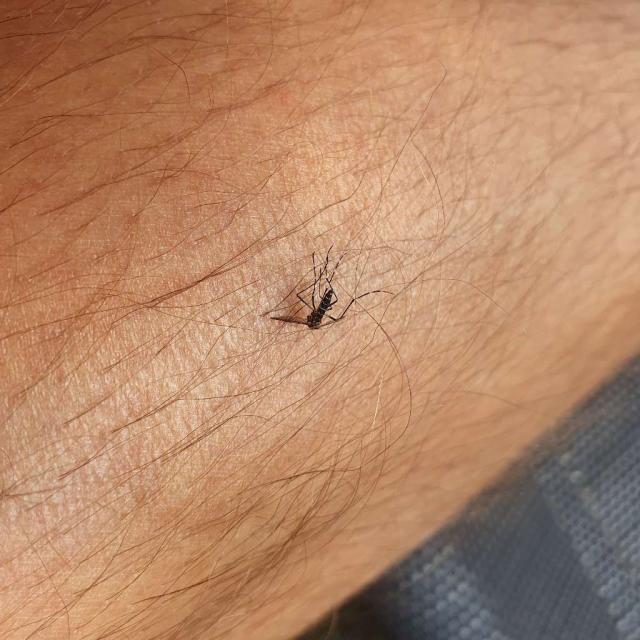albopictus: (259, 237, 411, 345)
